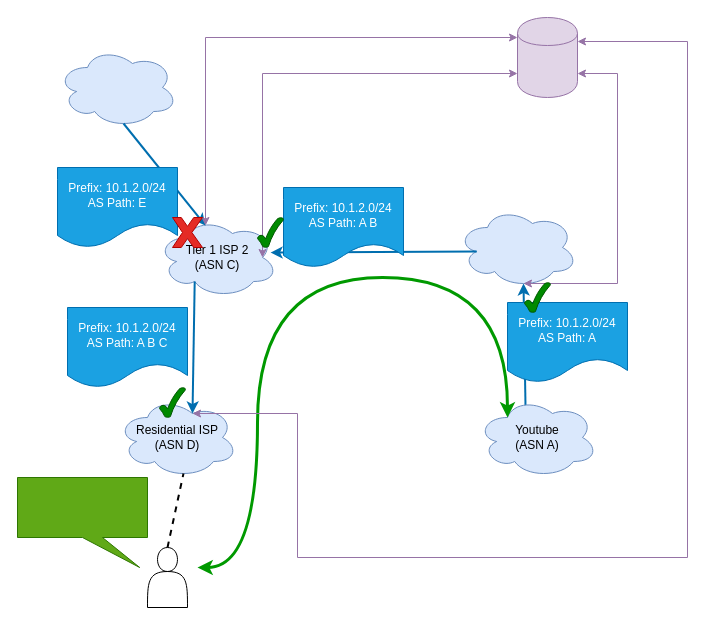
Some shapes in this 714 by 625 pixel diagram are drawn without their labels. Here are the shapes that lost their labels. From the top down, the centre of each, then its label:
At point 547,57: "ROA Datastore".
At point 117,87: "State Run ISP (ASN E)".
At point 517,247: "Tier 1 ISP 1 (ASN B)".
At point 82,522: "Visit youtube at 10.1.2.3".
